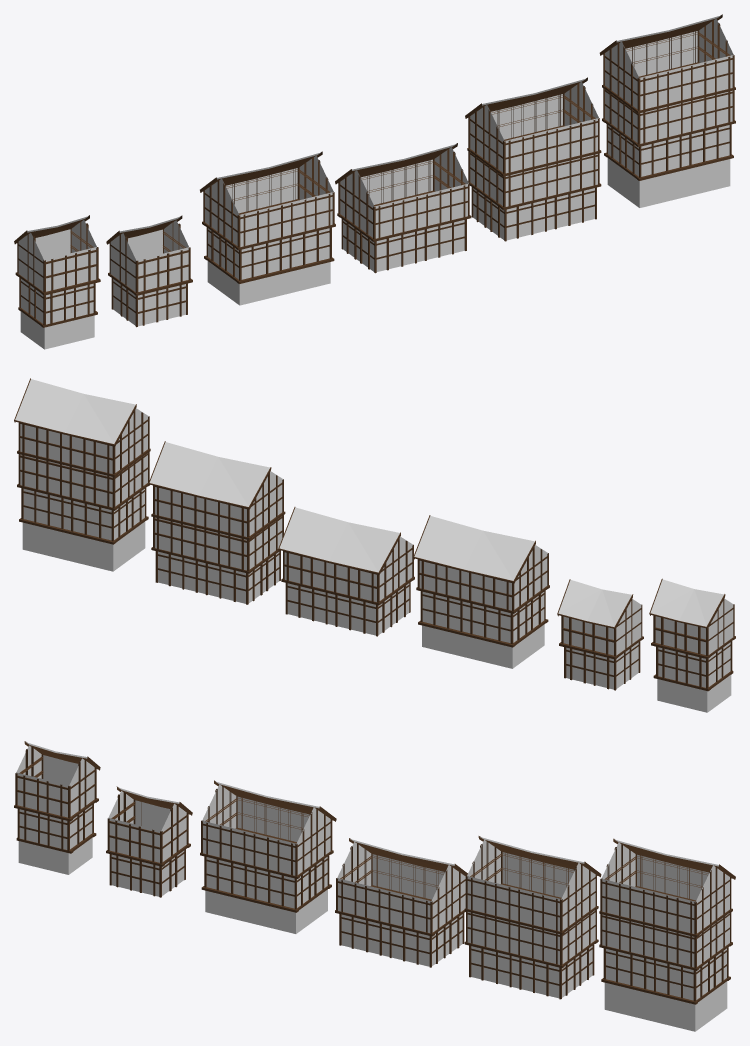
File: HousePack2_2Upload.dae
3 renders of one model, top to bottom at view 1: azimuth 30°, elevation 25°; view 2: azimuth 150°, elevation 25°; view 3: azimuth 330°, elevation 25°, orthographic.
Parts seen in each view (by area): view 1: House4_Level3, House1_Level2, House2_Level3, House3_Level2, House6_Level2, House5_Level2, House4_Level0, House4_Level2, House2_Level2, House1_Level2_Beams, House2_Level3_Beams, House3_Level2_Beams (+29 smaller); view 2: House1_Roof, House2_Roof, House4_Roof, House3_Roof, House4_Level0, House3_Level2, House4_Level3, House1_Level2, House2_Level3, House1_Level1, House4_Level2, House2_Level2 (+27 smaller); view 3: House2_Level3, House3_Level2, House4_Level3, House1_Level2, House4_Level0, House6_Level2, House5_Level2, House2_Level2, House4_Level2, House2_Level1, House1_Level1, House3_Level2_Beams (+29 smaller).
Boxes of the visible parts, box(x1,y1,x2,y2) form: House4_Level3: box(605, 18, 733, 110); House1_Level2: box(340, 147, 468, 238); House2_Level3: box(470, 81, 598, 173); House3_Level2: box(205, 155, 333, 246); House6_Level2: box(18, 220, 96, 291); House5_Level2: box(110, 220, 189, 291); House4_Level0: box(607, 158, 730, 207); House4_Level2: box(605, 90, 732, 143); House2_Level2: box(470, 154, 597, 206); House1_Level2_Beams: box(338, 149, 469, 239); House2_Level3_Beams: box(468, 83, 599, 173); House3_Level2_Beams: box(203, 157, 334, 247); House1_Roof: box(279, 507, 399, 572); House2_Roof: box(149, 442, 269, 506); House4_Roof: box(15, 379, 135, 443); House3_Roof: box(414, 516, 534, 580); House4_Level0: box(22, 521, 145, 571); House3_Level2: box(419, 545, 547, 610); House4_Level3: box(20, 408, 148, 473); House1_Level2: box(284, 536, 412, 601); House2_Level3: box(155, 471, 282, 536); House1_Level1: box(287, 583, 409, 635); House4_Level2: box(20, 454, 147, 507); House2_Level2: box(155, 517, 282, 570); House2_Level3: box(467, 839, 595, 931); House3_Level2: box(202, 784, 330, 875); House4_Level3: box(601, 842, 729, 933); House1_Level2: box(337, 841, 465, 932); House4_Level0: box(604, 981, 727, 1031); House6_Level2: box(16, 745, 94, 817); House5_Level2: box(108, 791, 186, 862); House2_Level2: box(467, 910, 595, 964); House4_Level2: box(602, 913, 729, 967); House2_Level1: box(471, 946, 592, 998); House1_Level1: box(341, 914, 462, 966); House3_Level2_Beams: box(201, 786, 332, 876).
Bounding box in the file's own units: 57.34 × 5.34 × 12.45.
